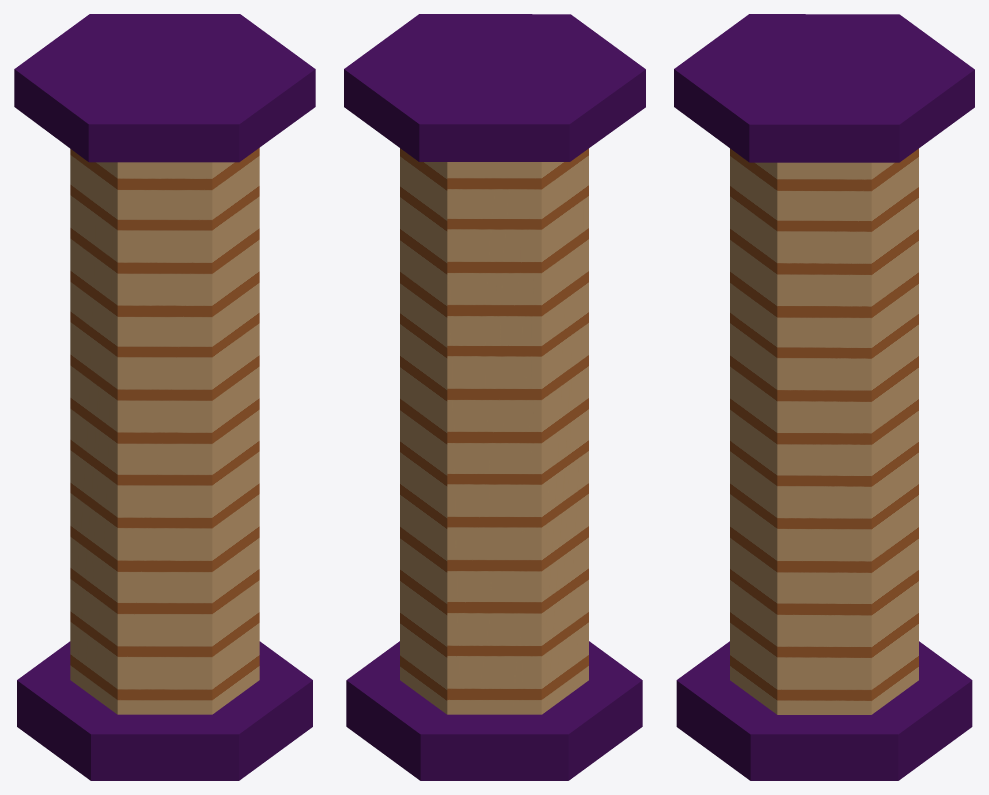
Rendered from Cat_Tree-WarRoom.glb.
3 renders of one model, left to right at view 1: azimuth 30°, elevation 25°; view 2: azimuth 150°, elevation 25°; view 3: azimuth 270°, elevation 25°, orthographic.
Visible parts, largest first — view 1: Cat_tree; view 2: Cat_tree; view 3: Cat_tree.
Part boxes in pixels (x1,y1,x2,y2): Cat_tree: (14, 14, 315, 780); Cat_tree: (344, 14, 645, 780); Cat_tree: (674, 14, 974, 780).
Size of the model in its own units: 0.6907 by 1.91 by 0.7943.
Materials: 1 (1 with a texture image).
